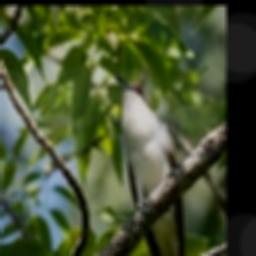Cuckoo: (113, 73, 184, 256)
